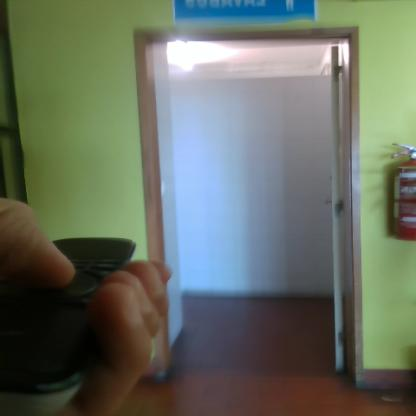open: (134, 27, 364, 370)
